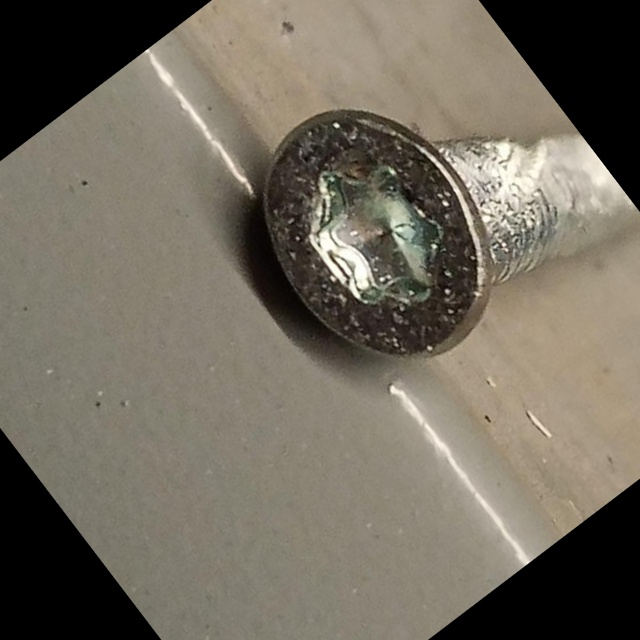torx: (212, 67, 540, 409)
